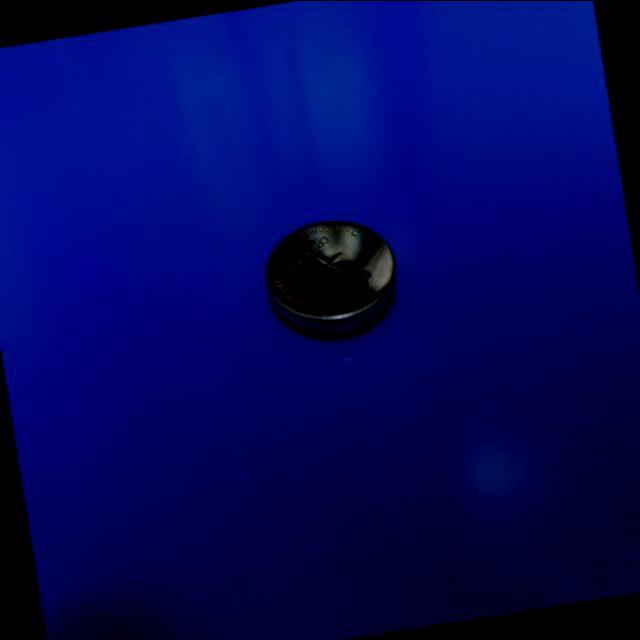COIN: (258, 212, 404, 349)
